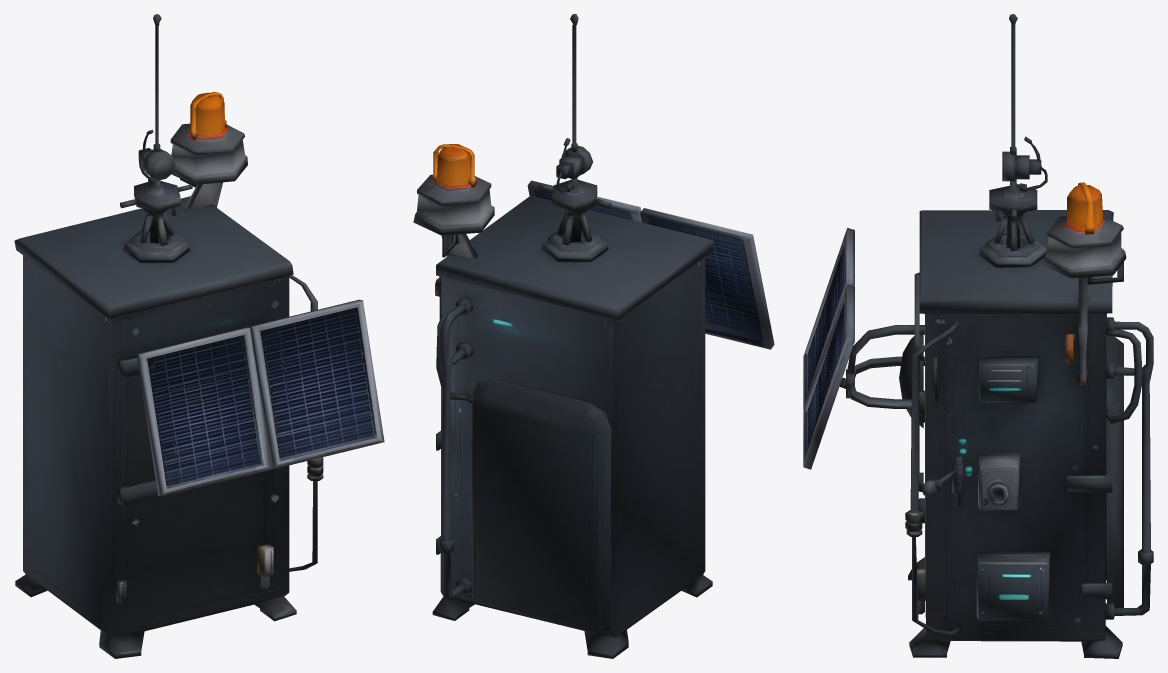
The model's file is relay_station.glb.
3 views of the same model, side by side, from view 1: azimuth 30°, elevation 25°; view 2: azimuth 150°, elevation 25°; view 3: azimuth 270°, elevation 25° (orthographic). The views are drawn at different scales.
Parts seen in each view (by area): view 1: tripo_node_01edbe34-74de-4901-aab2-14ebc977c83c; view 2: tripo_node_01edbe34-74de-4901-aab2-14ebc977c83c; view 3: tripo_node_01edbe34-74de-4901-aab2-14ebc977c83c.
Boxes of the visible parts, x1=… form: tripo_node_01edbe34-74de-4901-aab2-14ebc977c83c: x1=14, y1=14, x2=384, y2=658; tripo_node_01edbe34-74de-4901-aab2-14ebc977c83c: x1=413, y1=14, x2=774, y2=658; tripo_node_01edbe34-74de-4901-aab2-14ebc977c83c: x1=803, y1=14, x2=1153, y2=658.
Bounding box in the file's own units: 0.4238 × 0.998 × 0.5293.
Materials: 1 (1 with a texture image).
